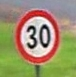limite 30: (13, 7, 60, 65)
